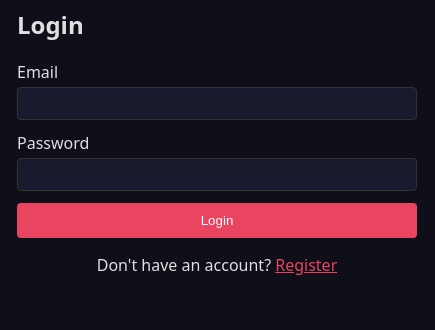
Test case: Login Page › form submission › should show error message when login fails
Type "bad@user.com" into the field labelled "Email" at (217, 103), box [17,87,417,120]
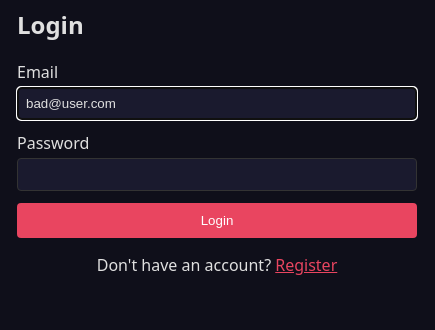
Type "wrong" into the password field labelled "Password" at (217, 174), box [17,158,417,191]
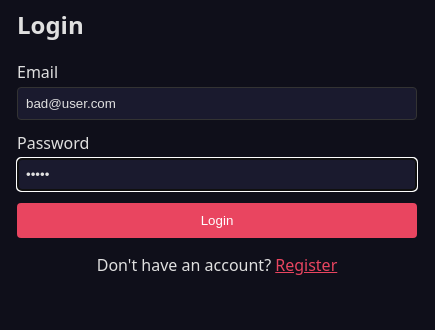
Click the button "Login" at (217, 220), box [17,203,417,238]
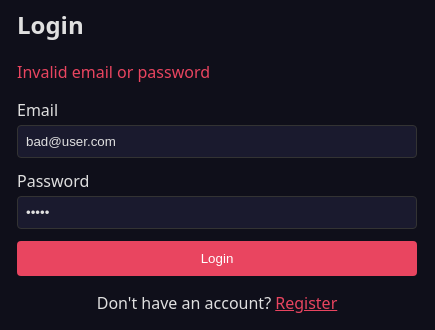
Now the text "Invalid email or password" is shown, box [17,61,210,83]
